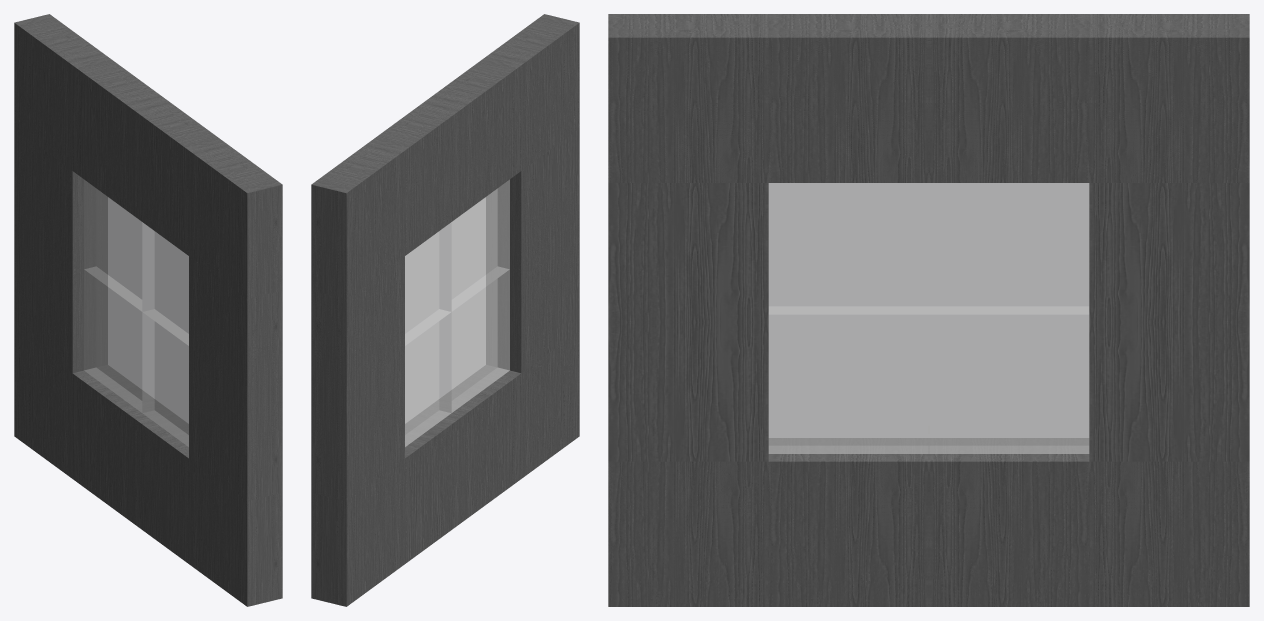
File: corner_window2.gltf
The picture shows the model from 3 angles, left to right: view 1: azimuth 30°, elevation 25°; view 2: azimuth 150°, elevation 25°; view 3: azimuth 270°, elevation 25°; orthographic projection. The views are drawn at different scales.
Parts seen in each view (by area): view 1: Frame Left Right, Frame Corner, Frame Top Bottom, Glass; view 2: Frame Left Right, Frame Corner, Frame Top Bottom, Glass; view 3: Frame Top Bottom, Frame Corner, Frame Left Right, Glass.
Part boxes in pixels (x1,y1,x2,y2): Frame Left Right: [14, 128, 282, 501]; Frame Corner: [14, 14, 282, 606]; Frame Top Bottom: [72, 56, 223, 563]; Glass: [84, 179, 188, 446]; Frame Left Right: [311, 128, 579, 501]; Frame Corner: [311, 14, 579, 606]; Frame Top Bottom: [370, 56, 521, 563]; Glass: [405, 179, 509, 446]; Frame Top Bottom: [768, 14, 1089, 606]; Frame Corner: [608, 14, 1249, 606]; Frame Left Right: [608, 183, 1249, 461]; Glass: [768, 183, 1089, 453].
Bounding box in the file's own units: 1.07 × 12 × 12.26.
Materials: 2 (1 with a texture image).
